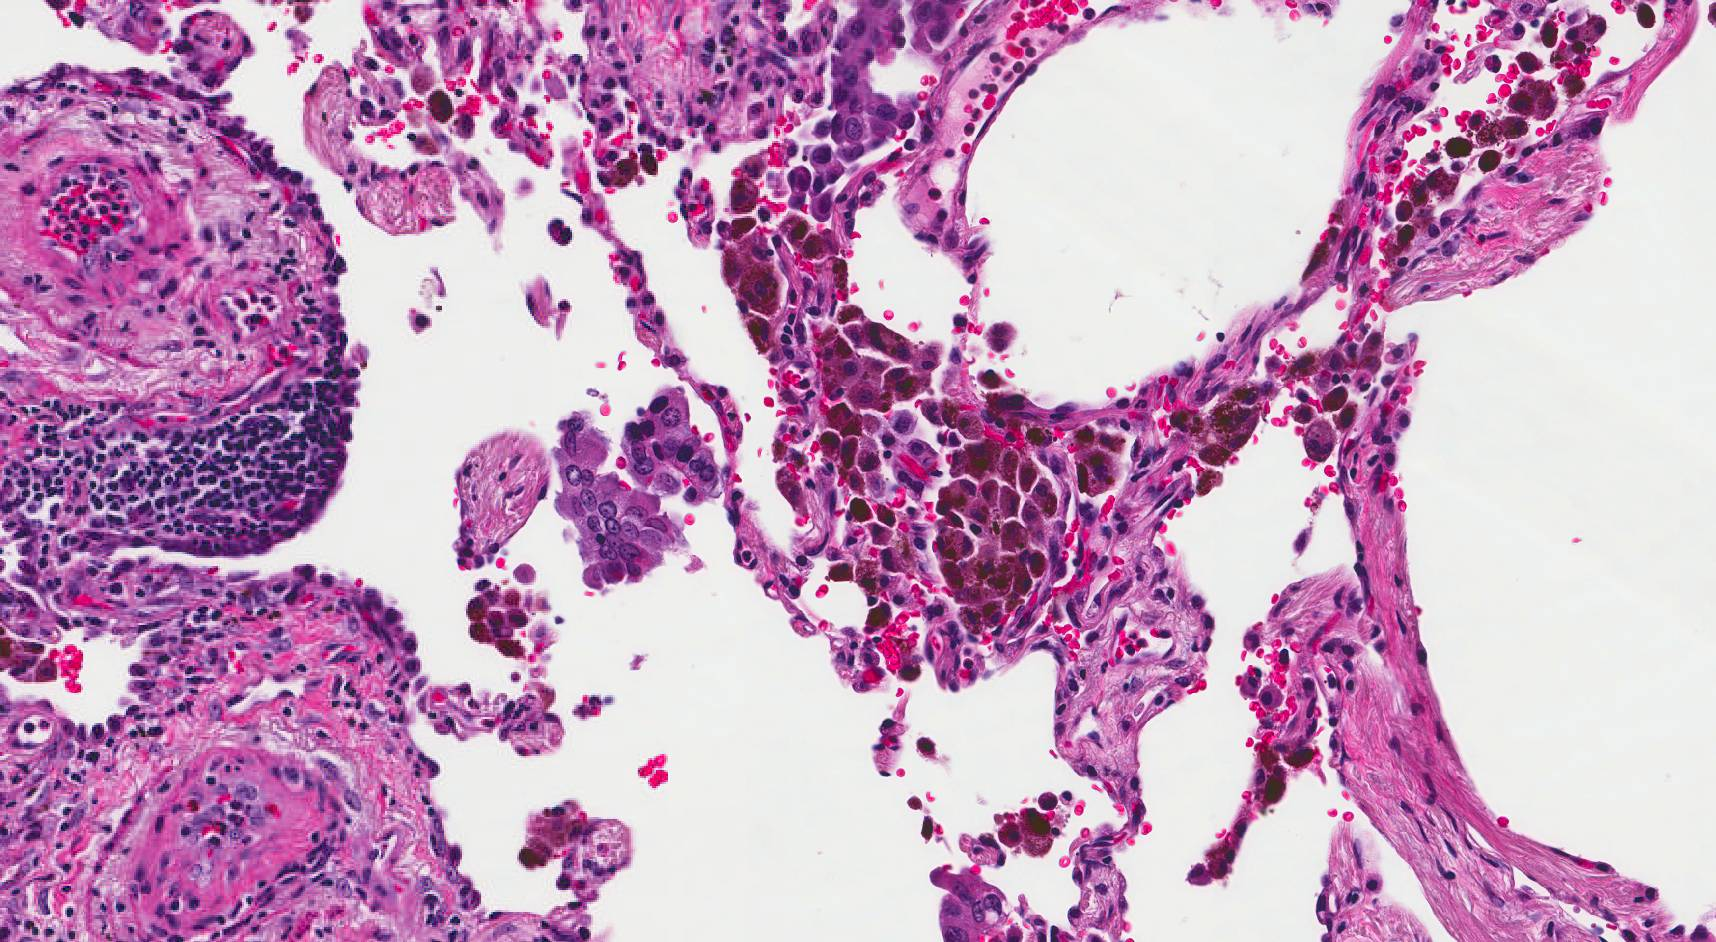stas: (547, 382, 717, 587), (828, 1, 954, 162), (927, 865, 1020, 942)
